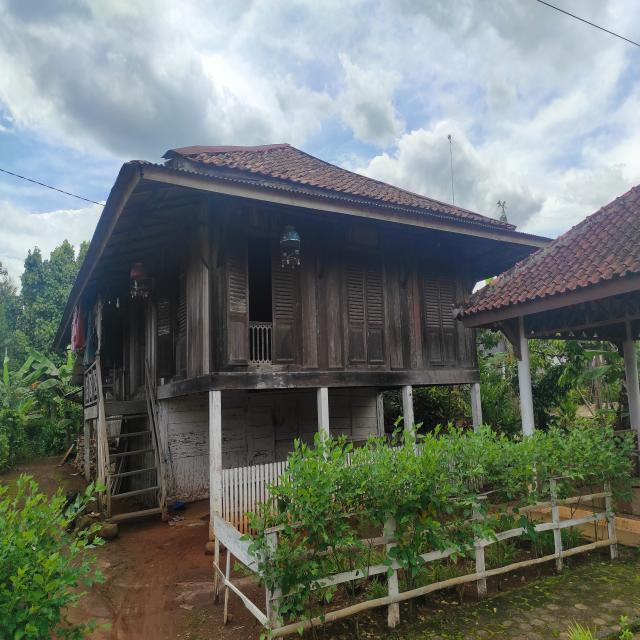Tangga: (103, 410, 168, 518)
Tembok Bangunan: (121, 198, 480, 508)
jendela: (423, 258, 458, 365)
